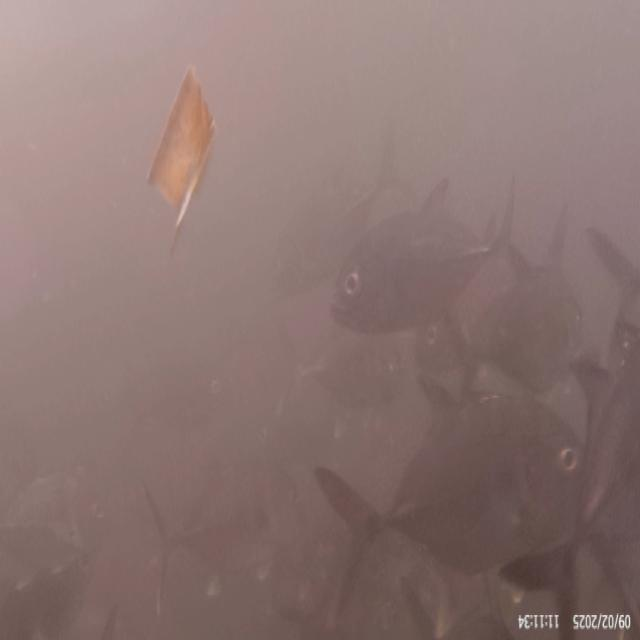ikan: (313, 378, 587, 581), (328, 173, 498, 337)
